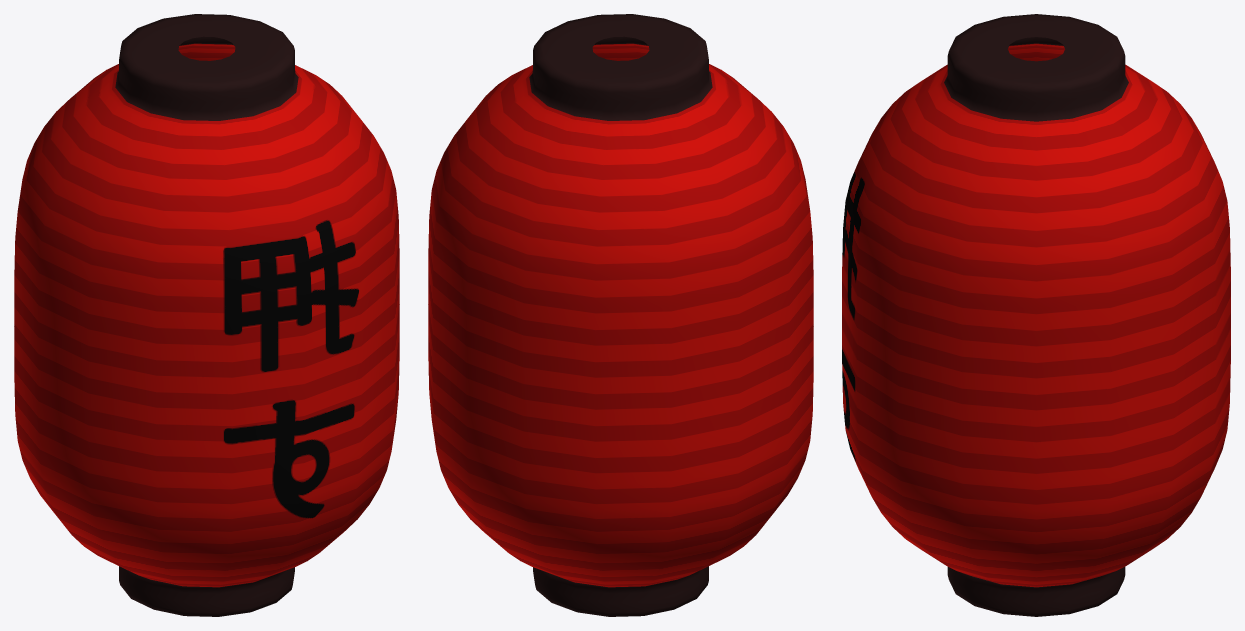
The model's file is lantern_button.fbx.
The picture shows the model from 3 angles, left to right: view 1: azimuth 30°, elevation 25°; view 2: azimuth 150°, elevation 25°; view 3: azimuth 270°, elevation 25°; orthographic projection.
Parts seen in each view (by area): view 1: Torii.001_Cube.002; view 2: Torii.001_Cube.002; view 3: Torii.001_Cube.002.
Boxes of the visible parts, x1,y1,x2,y2 form: Torii.001_Cube.002: [14, 14, 399, 616]; Torii.001_Cube.002: [428, 14, 813, 616]; Torii.001_Cube.002: [842, 14, 1230, 616].
Bounding box in the file's own units: 123 × 185 × 123.
